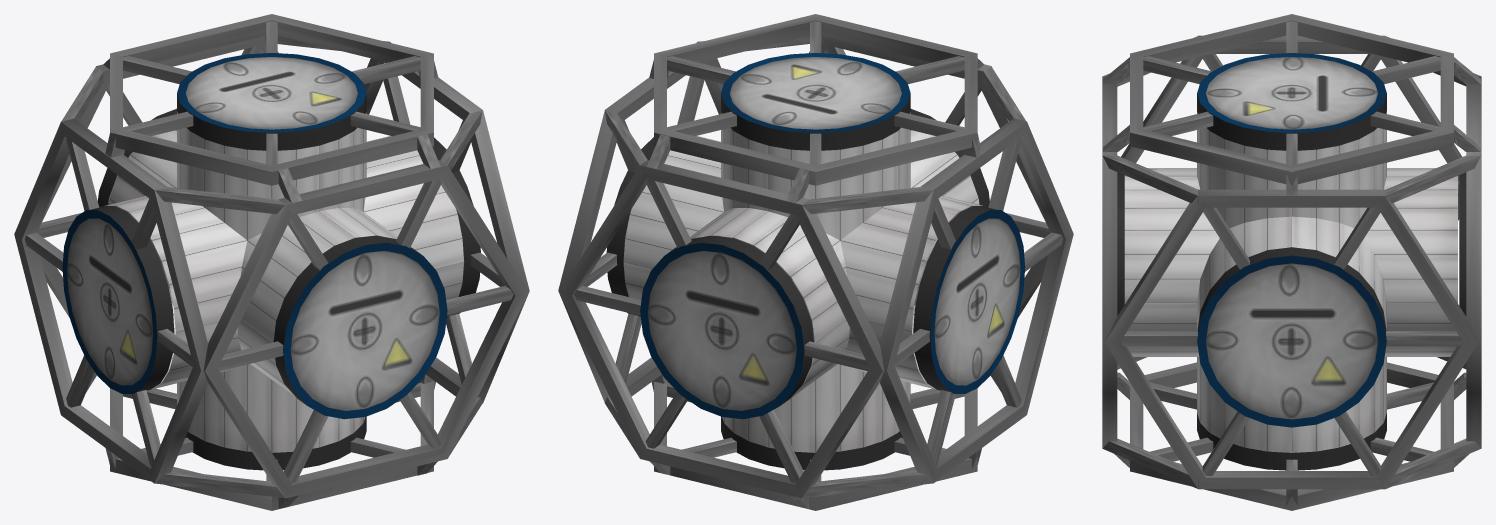
The model's file is HexNode.FBX.
3 renders of one model, left to right at view 1: azimuth 30°, elevation 25°; view 2: azimuth 150°, elevation 25°; view 3: azimuth 270°, elevation 25°, orthographic.
Visible parts, largest first — view 1: EndCap009, EndBeam010, EndCap012, EndBeam011, EndCap007, Cylinder001, EndBeam005, Cylinder003, Cylinder002, EndBeam012, EndBeam007, EndBeam009 (+18 smaller); view 2: EndCap011, EndBeam009, EndCap012, EndBeam011, EndCap007, Cylinder001, EndBeam005, Cylinder003, Cylinder002, EndBeam012, EndBeam007, EndBeam010 (+18 smaller); view 3: EndCap010, Cylinder002, EndBeam012, EndCap007, EndBeam005, Cylinder001, EndBeam007, Cylinder003, EndBeam009, EndBeam010, EndBeam011, EndCap008 (+14 smaller).
Boxes of the visible parts, x1,y1,x2,y2 form: EndCap009: (273, 235, 447, 419); EndBeam010: (203, 160, 528, 498); EndCap012: (62, 206, 174, 393); EndBeam011: (14, 118, 207, 483); EndCap007: (177, 53, 366, 150); Cylinder001: (177, 111, 366, 452); EndBeam005: (110, 14, 433, 185); Cylinder003: (104, 136, 464, 389); Cylinder002: (109, 130, 411, 397); EndBeam012: (364, 41, 529, 403); EndBeam007: (110, 381, 433, 510); EndBeam009: (36, 36, 278, 317); EndCap011: (640, 235, 813, 419); EndBeam009: (559, 160, 884, 498); EndCap012: (913, 206, 1025, 393); EndBeam011: (880, 118, 1073, 483); EndCap007: (721, 53, 910, 150); Cylinder001: (721, 111, 910, 452); EndBeam005: (654, 14, 977, 185); Cylinder003: (623, 136, 982, 389); Cylinder002: (675, 130, 979, 397); EndBeam012: (558, 41, 723, 402); EndBeam007: (654, 381, 977, 510); EndBeam010: (809, 35, 1051, 317); EndCap010: (1197, 247, 1386, 427); Cylinder002: (1124, 168, 1457, 356); EndBeam012: (1104, 189, 1478, 489); EndCap007: (1197, 53, 1386, 150); EndBeam005: (1130, 14, 1453, 185); Cylinder001: (1197, 111, 1386, 452); EndBeam007: (1130, 362, 1453, 510); Cylinder003: (1197, 216, 1386, 330); EndBeam009: (1466, 76, 1481, 448); EndBeam010: (1102, 76, 1117, 448); EndBeam011: (1121, 35, 1462, 220); EndCap008: (1197, 413, 1386, 470).
Size of what is drawn, in the model's own units: 2.5 by 2.5 by 2.47.
1 material, 1 textured.
